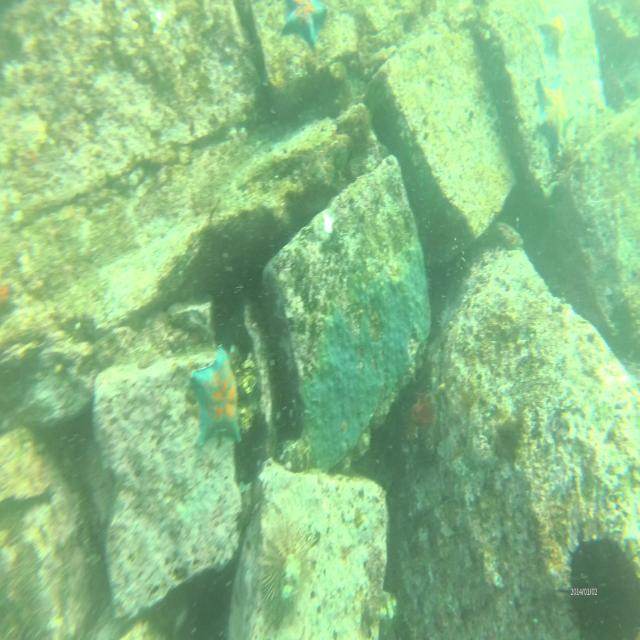echinus: (561, 522, 639, 640), (258, 528, 316, 624)
starfish: (188, 344, 242, 448), (536, 68, 572, 155), (280, 0, 326, 53), (540, 6, 568, 56)
